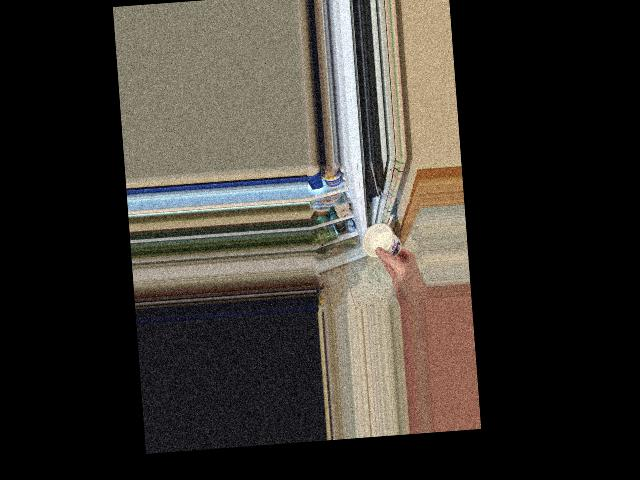cotage: (362, 219, 405, 262)
